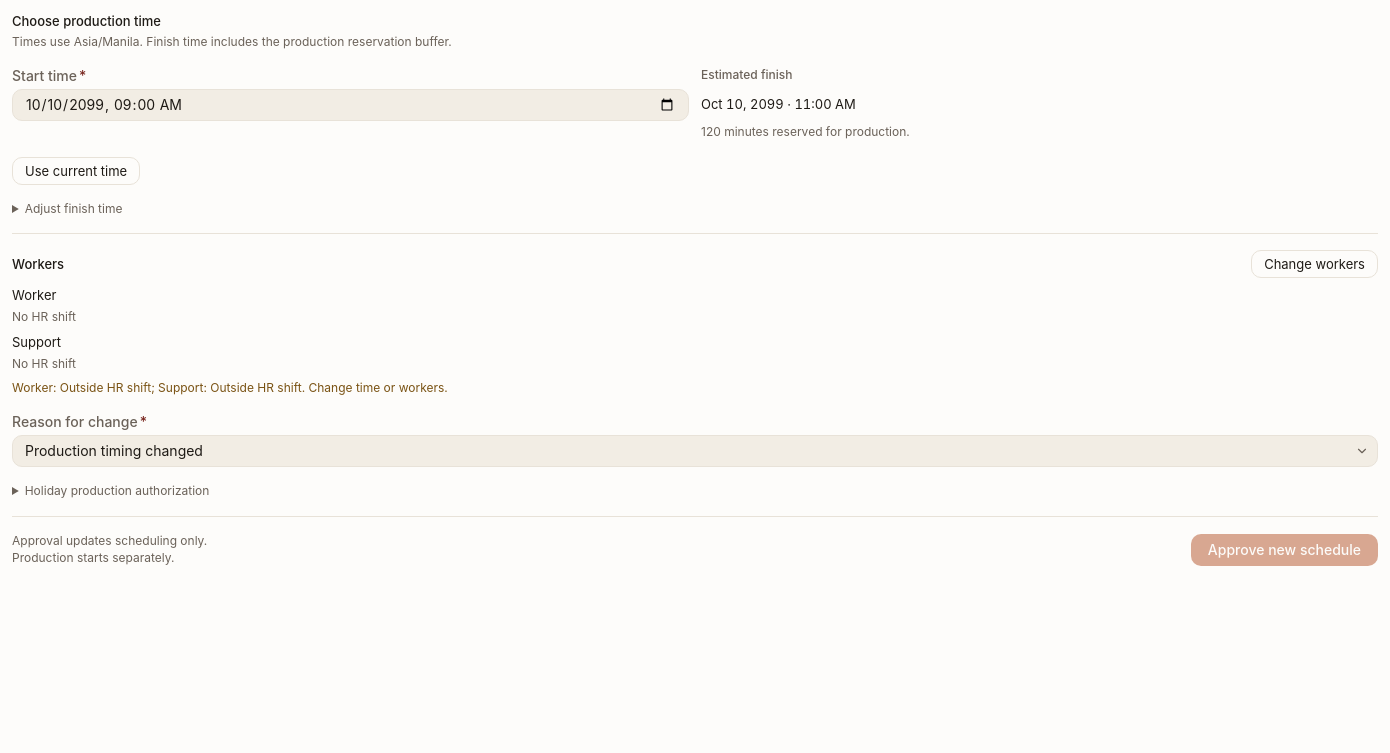
Test: blocks manual approval when retained crew cannot cover the selected interval
expect the text "Worker: Outside HR shift; Support: Outside HR shift. Change time or workers." is shown: met, box x1=12 y1=380 x2=448 y2=395
expect the button "Approve new schedule" is disabled: met, box x1=1191 y1=534 x2=1378 y2=566
Click the button "Change workers". click: point(1315, 264)
box: x1=1251 y1=250 x2=1378 y2=278
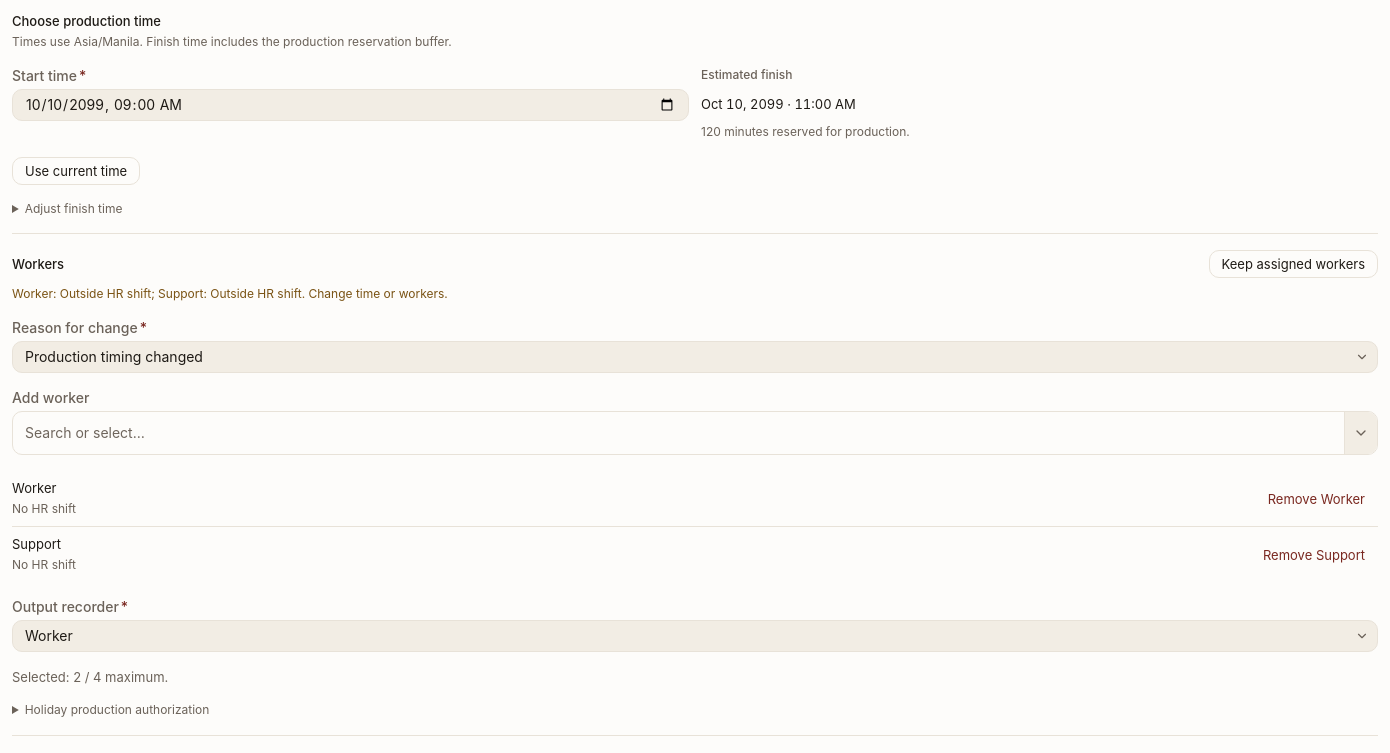
expect the dropdown labelled "Add worker" is shown: met, box x1=13 y1=412 x2=1344 y2=454
